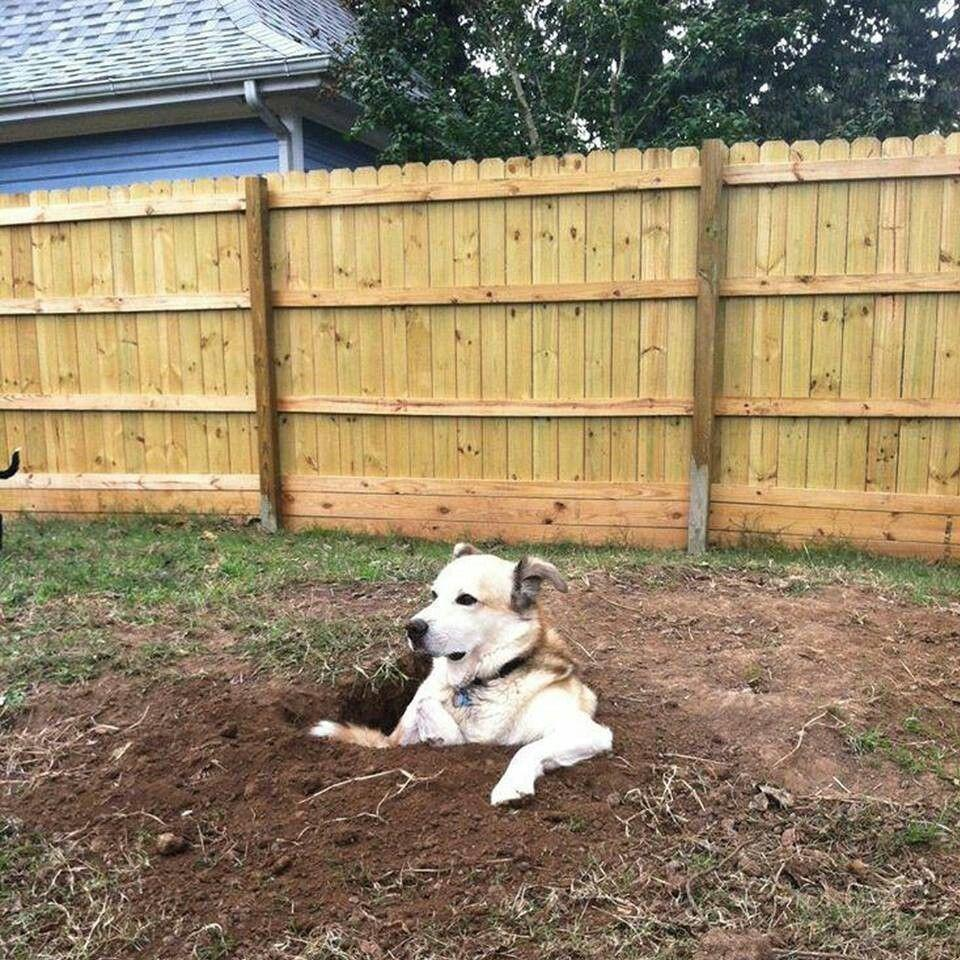adult_dog: (305, 543, 614, 809)
